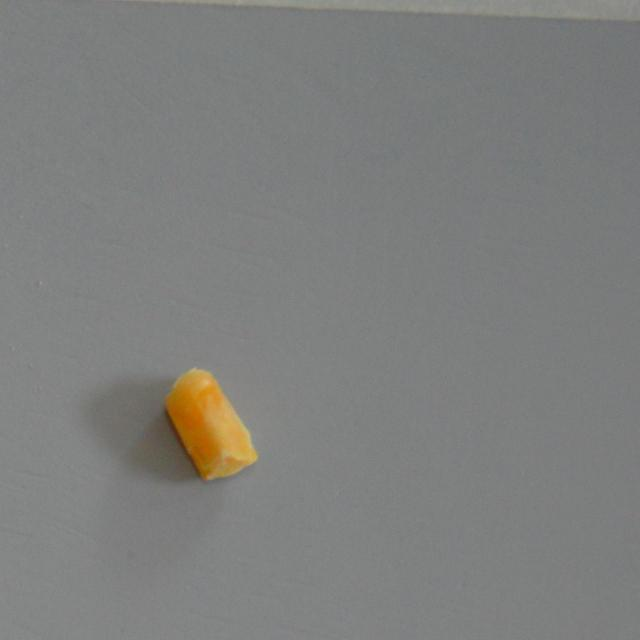pelicula: (164, 366, 260, 484)
